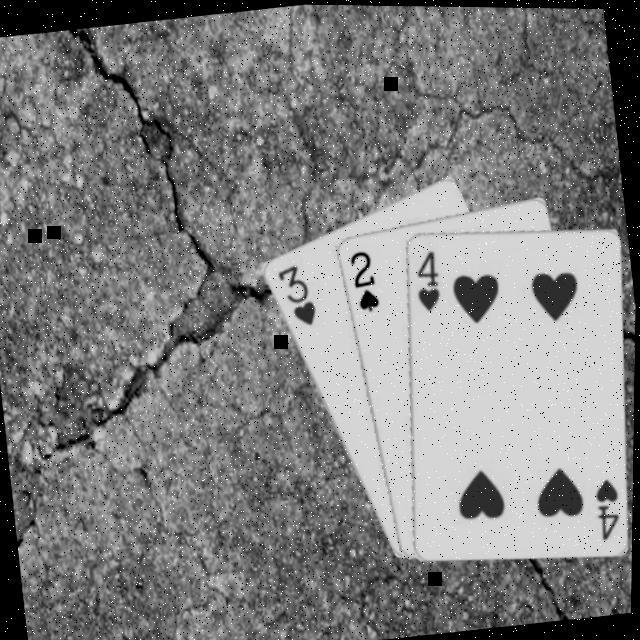2S: (346, 245, 386, 315)
3H: (274, 259, 323, 332)
4H: (591, 472, 630, 541), (410, 246, 449, 314)
